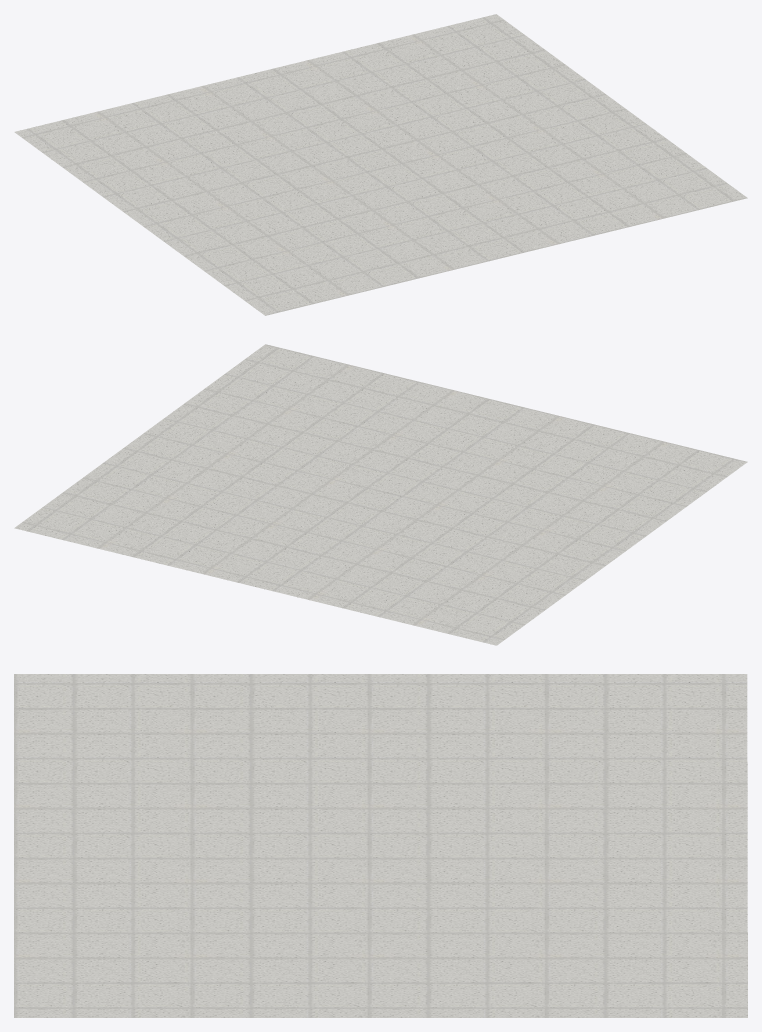
Rendered from ceiling.glb.
3 views of the same model, one above another, from view 1: azimuth 30°, elevation 25°; view 2: azimuth 150°, elevation 25°; view 3: azimuth 270°, elevation 25° (orthographic). The views are drawn at different scales.
Parts seen in each view (by area): view 1: 6twelve_Office_Ceiling_0.001; view 2: 6twelve_Office_Ceiling_0.001; view 3: 6twelve_Office_Ceiling_0.001.
Part boxes in pixels (x1=…): 6twelve_Office_Ceiling_0.001: x1=14, y1=14, x2=747, y2=315; 6twelve_Office_Ceiling_0.001: x1=14, y1=344, x2=747, y2=645; 6twelve_Office_Ceiling_0.001: x1=14, y1=674, x2=747, y2=1017.
Size of the model in its own units: 11.33 by 3.34e-06 by 10.23.
Materials: 1 (1 with a texture image).
